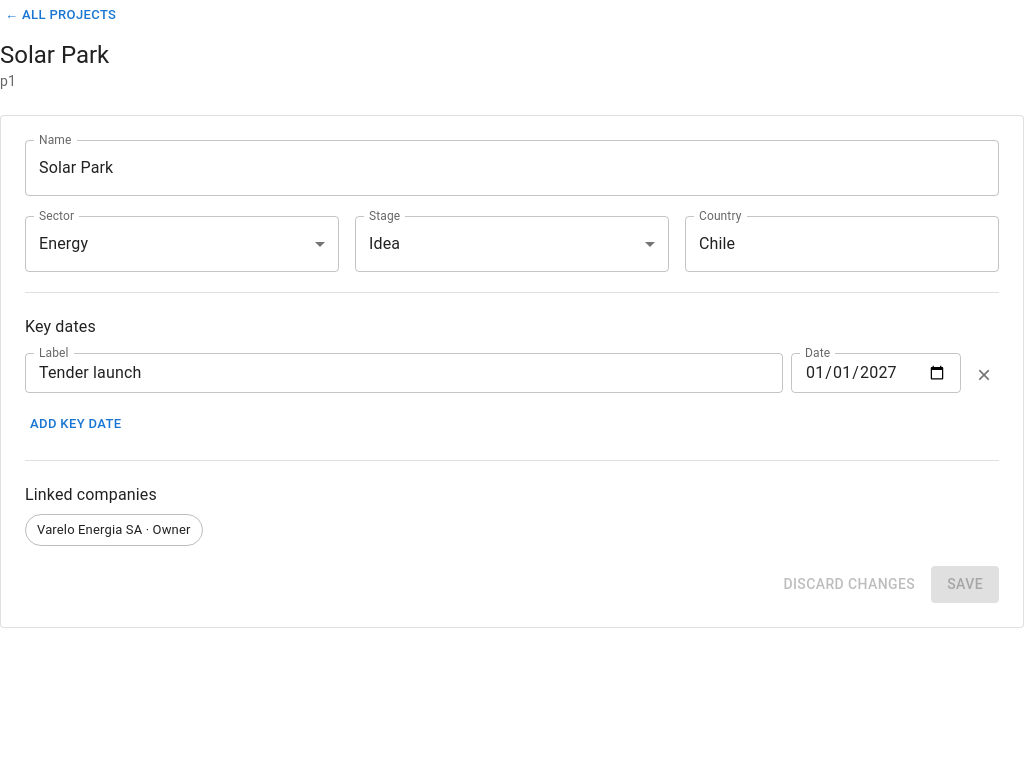
ProjectEdit › on conflict, makes me pick, then resubmits on top of the current record
Step 1. Replace the text in the field labelled "Name" with "Solar Park (mine)" → (512, 168), box left=25, top=140, right=999, bottom=196
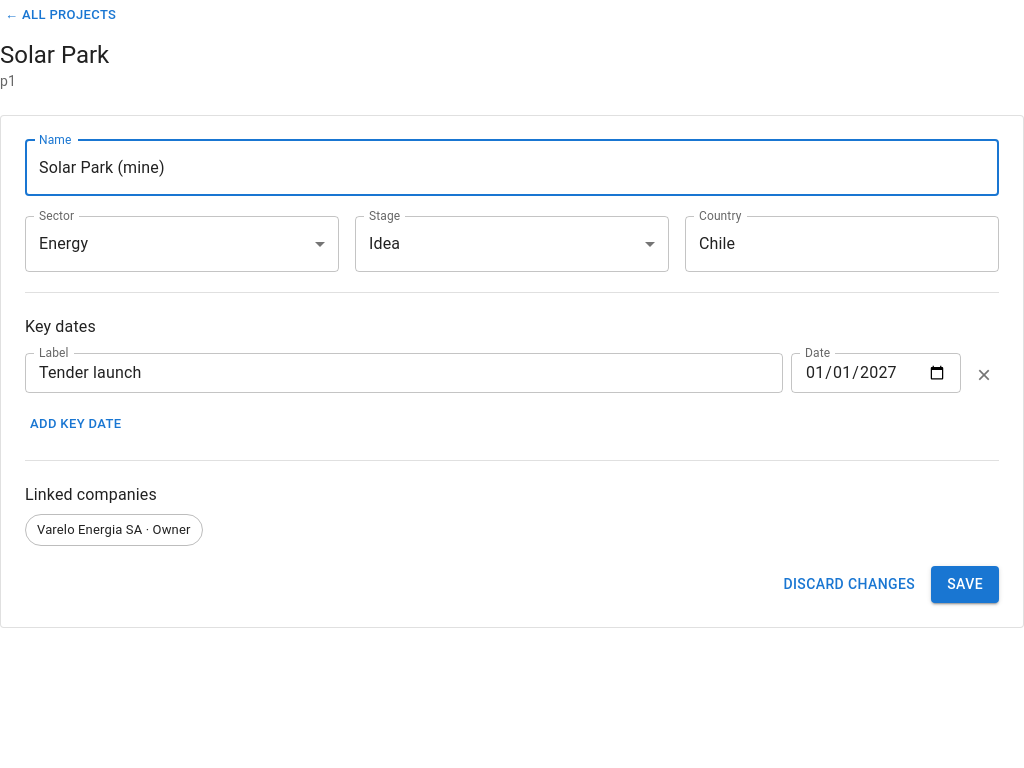
Step 2. Click the button "Save" → (965, 584), box left=931, top=566, right=999, bottom=603
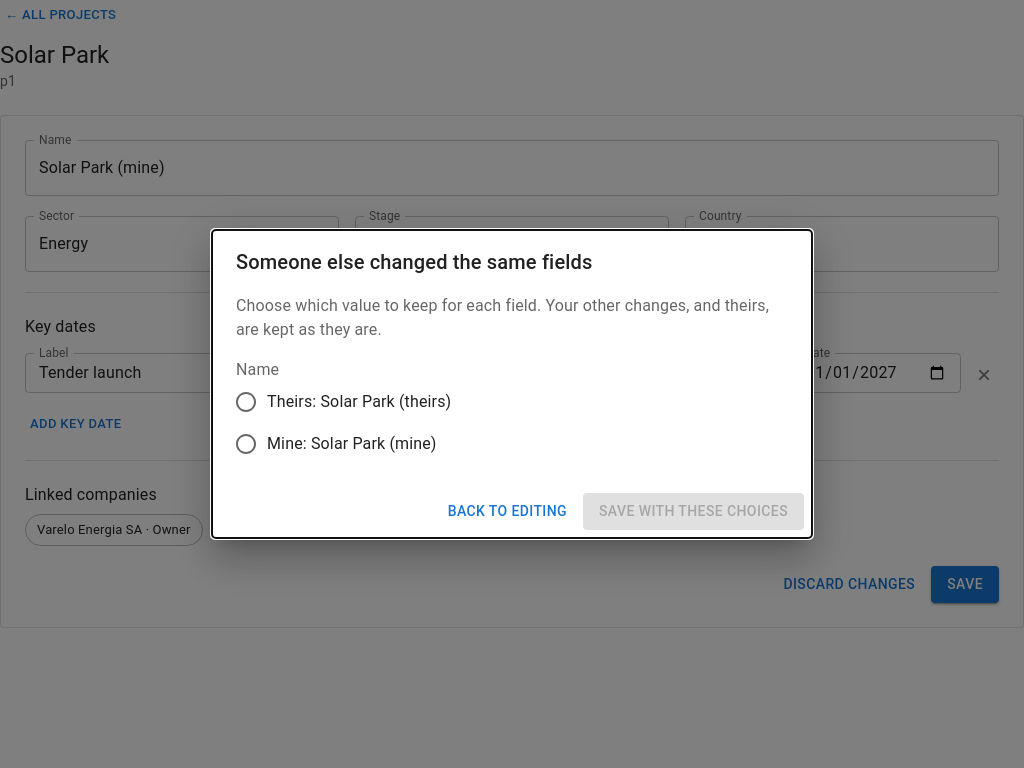
Result: the button "Save with these choices" is disabled at left=583, top=493, right=804, bottom=530
Step 3. Click the radio button labelled "Mine: Solar Park (mine)" → (335, 444), box left=234, top=432, right=437, bottom=456
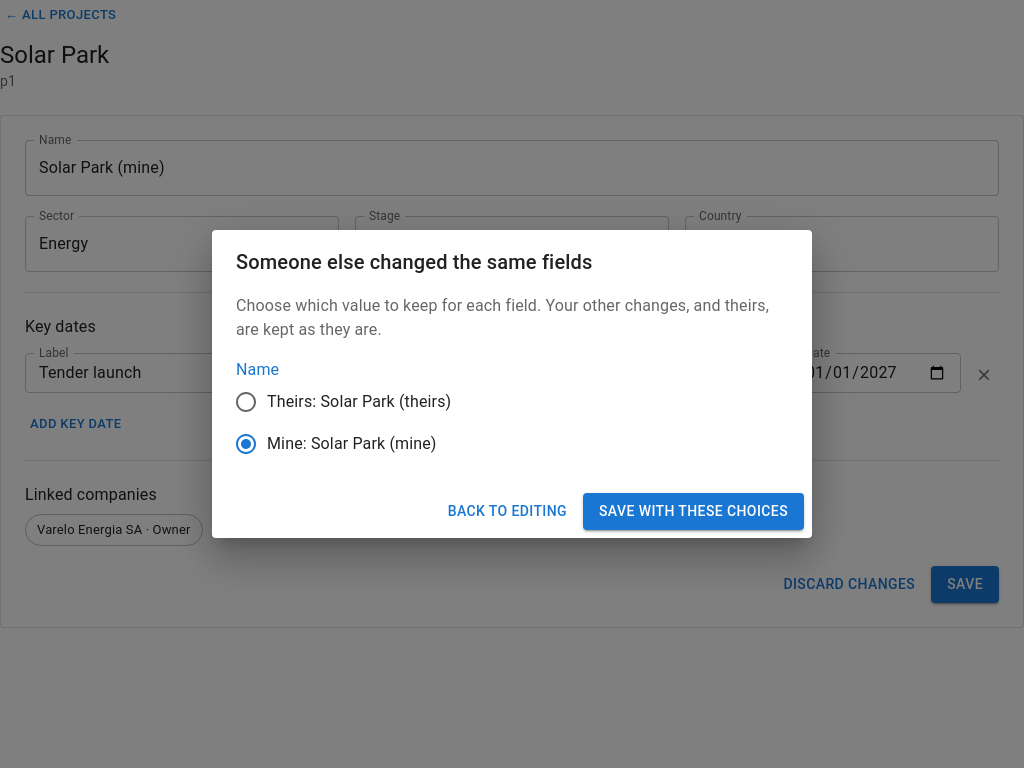
Step 4. Click the button "Save with these choices" → (694, 512), box left=583, top=493, right=804, bottom=530
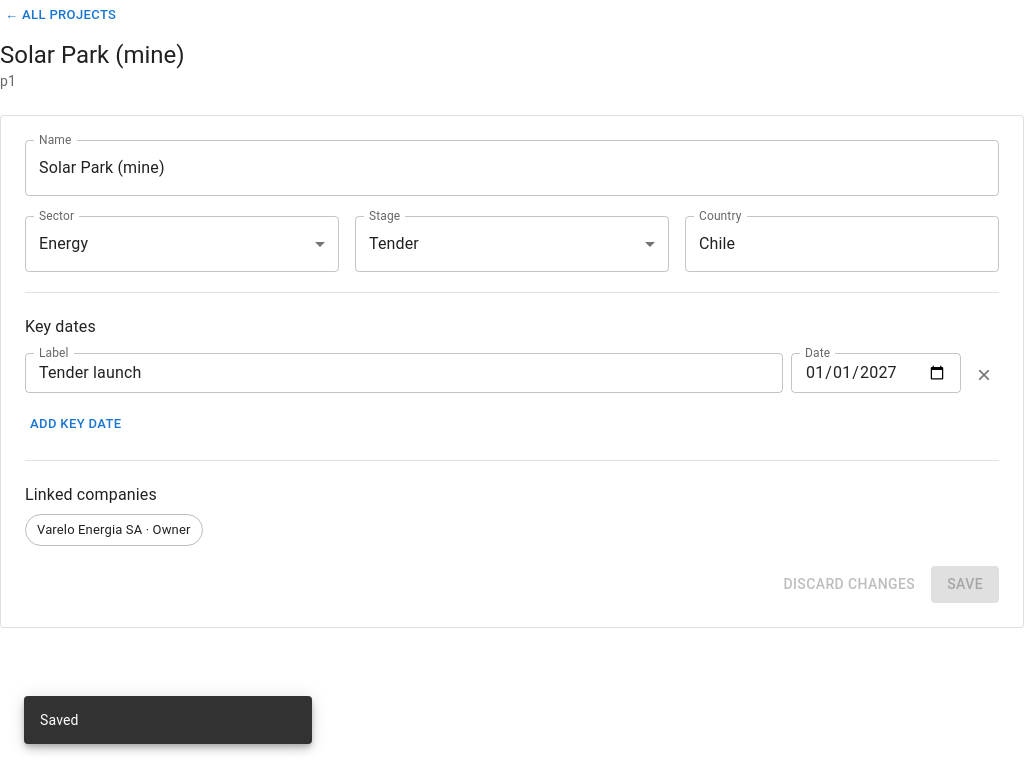
Result: the text "Saved" is shown at left=40, top=712, right=79, bottom=728
Result: the dialog is gone
Result: the heading "Solar Park (mine)" is shown at left=0, top=41, right=185, bottom=69
